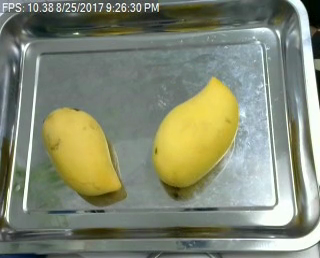Mango: (152, 77, 239, 190), (39, 107, 128, 194)
